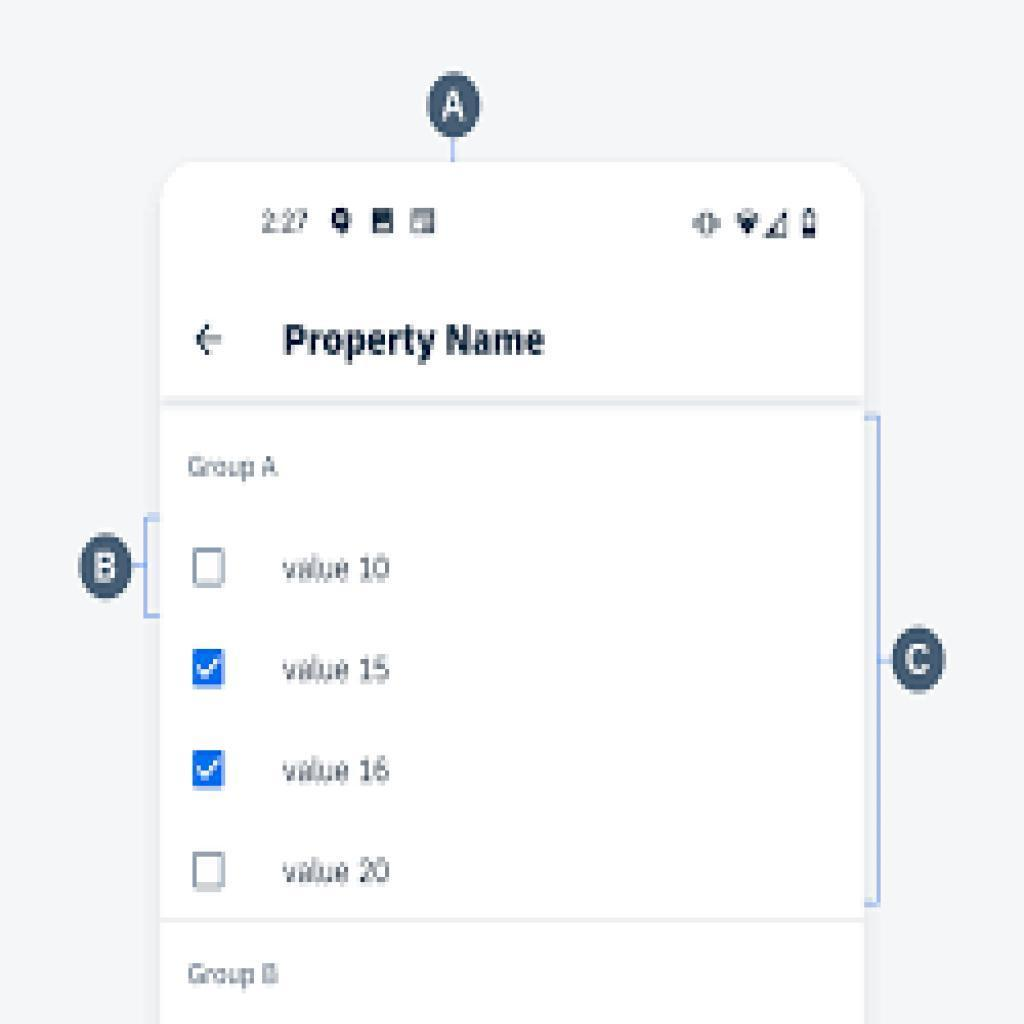checkbox: (191, 648, 227, 689), (191, 749, 226, 789), (194, 547, 225, 586), (193, 852, 224, 890)
